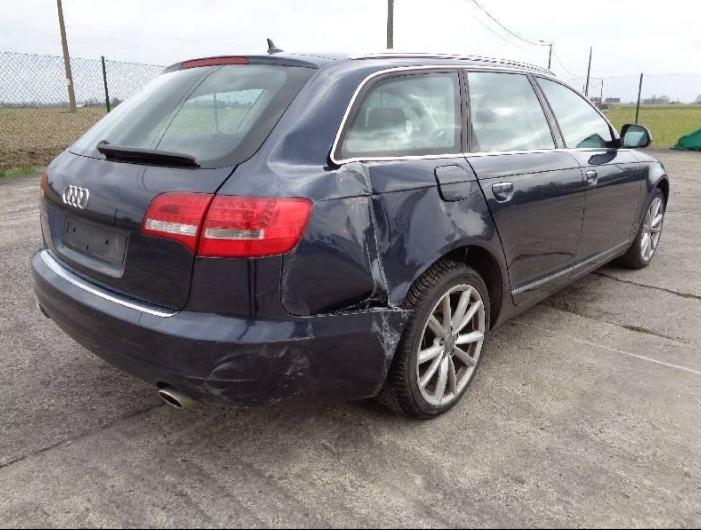Back-bumper: (31, 246, 403, 409)
Back-door: (457, 67, 584, 305)
Back-wheel: (375, 259, 489, 419)
Back-window: (342, 72, 462, 157), (468, 72, 556, 151)
Back-windshield: (67, 63, 314, 168)
Fender: (625, 148, 669, 246)
Front-door: (527, 71, 641, 277)
Front-wheel: (614, 188, 665, 268)
Front-window: (536, 76, 617, 147)
Mirror: (615, 123, 652, 148)
Quarter-panel: (216, 153, 514, 317)
Rocker-panel: (492, 245, 629, 329)
Roof: (266, 49, 545, 69)
Tail-light: (142, 192, 313, 258), (40, 168, 46, 201)
Trunk: (40, 149, 237, 312), (163, 53, 330, 73)
